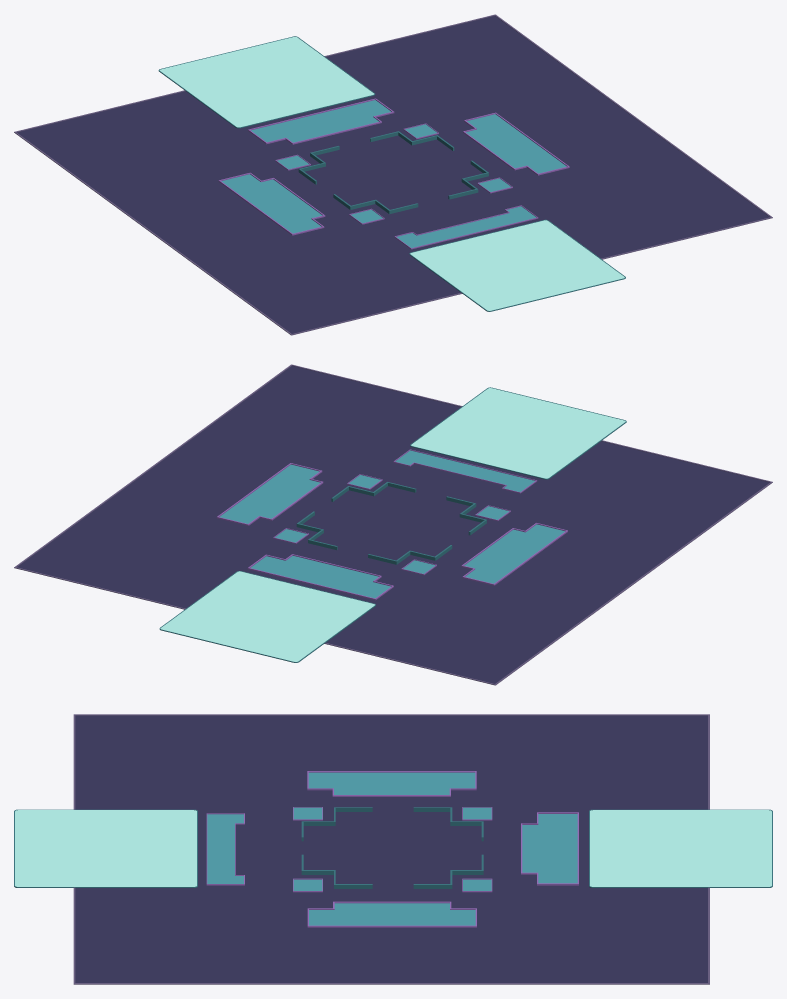
The model's file is Terrain_D7.fbx.
3 renders of one model, top to bottom at view 1: azimuth 30°, elevation 25°; view 2: azimuth 150°, elevation 25°; view 3: azimuth 270°, elevation 25°, orthographic. The views are drawn at different scales.
Parts seen in each view (by area): view 1: Plane.973, Plane.980, Plane.932, Plane.013, Plane.006, Plane.012, Plane.014, Plane.1050; view 2: Plane.973, Plane.980, Plane.932, Plane.013, Plane.006, Plane.012, Plane.014, Plane.1050; view 3: Plane.973, Plane.980, Plane.932, Plane.012, Plane.006, Plane.013, Plane.014, Plane.1050.
Boxes of the visible parts, x1=… form: Plane.973: x1=14, y1=14, x2=772, y2=335; Plane.980: x1=409, y1=219, x2=625, y2=311; Plane.932: x1=158, y1=36, x2=375, y2=128; Plane.013: x1=248, y1=98, x2=394, y2=144; Plane.006: x1=218, y1=172, x2=325, y2=235; Plane.012: x1=463, y1=112, x2=569, y2=175; Plane.014: x1=394, y1=205, x2=538, y2=249; Plane.1050: x1=298, y1=131, x2=488, y2=214; Plane.973: x1=14, y1=364, x2=772, y2=685; Plane.980: x1=410, y1=387, x2=626, y2=479; Plane.932: x1=159, y1=571, x2=375, y2=662; Plane.013: x1=247, y1=554, x2=393, y2=600; Plane.006: x1=461, y1=523, x2=567, y2=585; Plane.012: x1=216, y1=463, x2=323, y2=525; Plane.014: x1=393, y1=449, x2=537, y2=493; Plane.1050: x1=296, y1=482, x2=486, y2=564; Plane.973: x1=73, y1=714, x2=709, y2=984; Plane.980: x1=14, y1=809, x2=197, y2=887; Plane.932: x1=589, y1=809, x2=772, y2=887; Plane.012: x1=307, y1=901, x2=476, y2=927; Plane.006: x1=307, y1=771, x2=476, y2=796; Plane.013: x1=521, y1=812, x2=578, y2=885; Plane.014: x1=206, y1=813, x2=244, y2=885; Plane.1050: x1=301, y1=807, x2=483, y2=888.
Size of what is drawn, in the model's own units: 47662 by 353 by 56717.
Materials: 2 (1 with a texture image).
